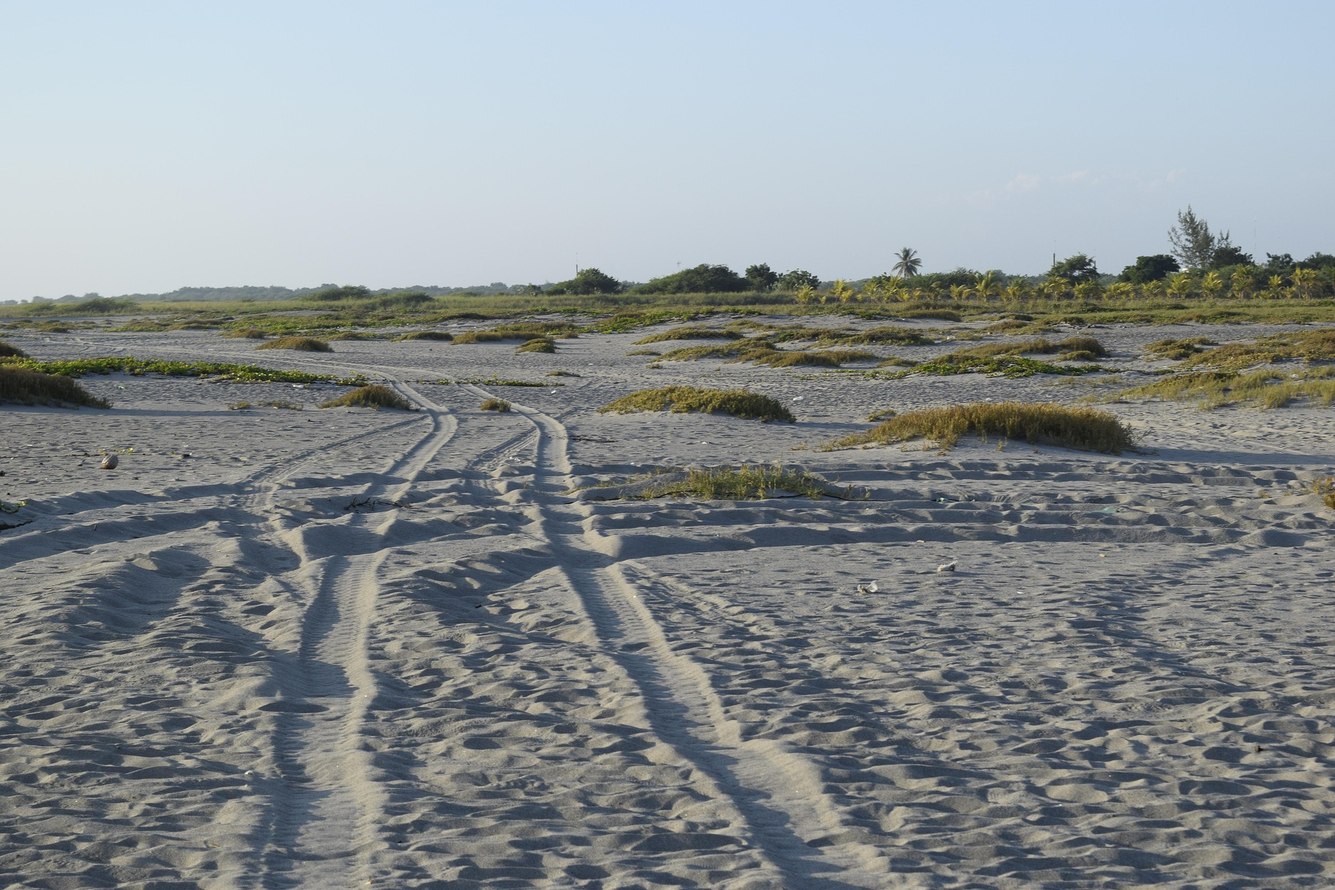vehicle_track: (512, 405, 889, 887), (0, 419, 416, 569), (246, 508, 403, 887)
